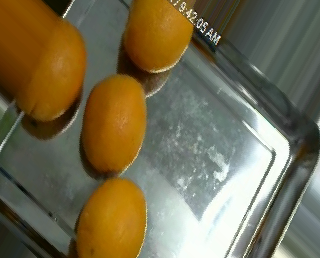Orange: (81, 73, 145, 173), (74, 175, 147, 257)
